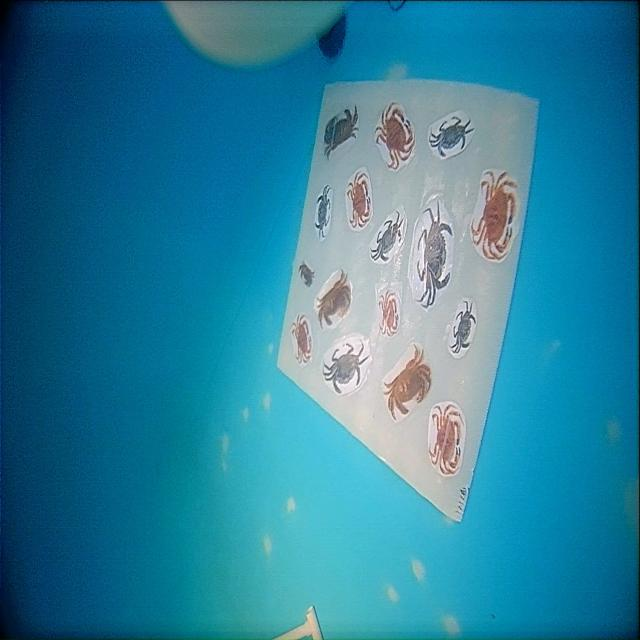GreenCrab: (416, 204, 452, 308), (323, 343, 368, 393), (430, 116, 474, 156), (450, 301, 476, 353)
